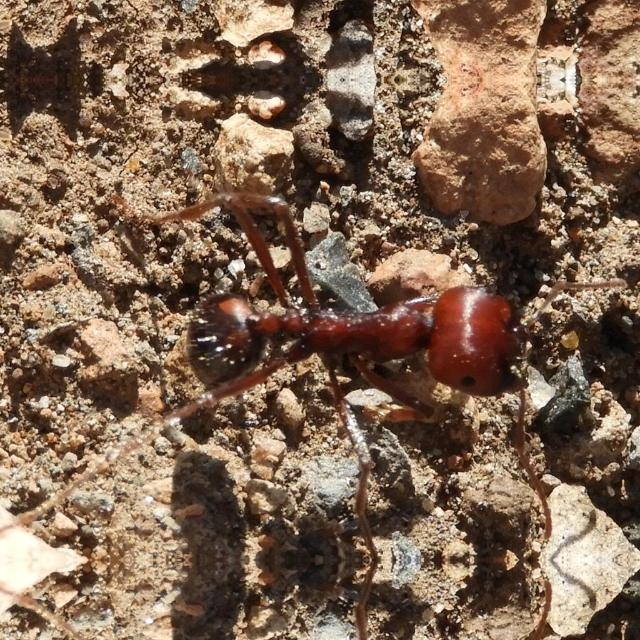Messor: (174, 284, 536, 428)
